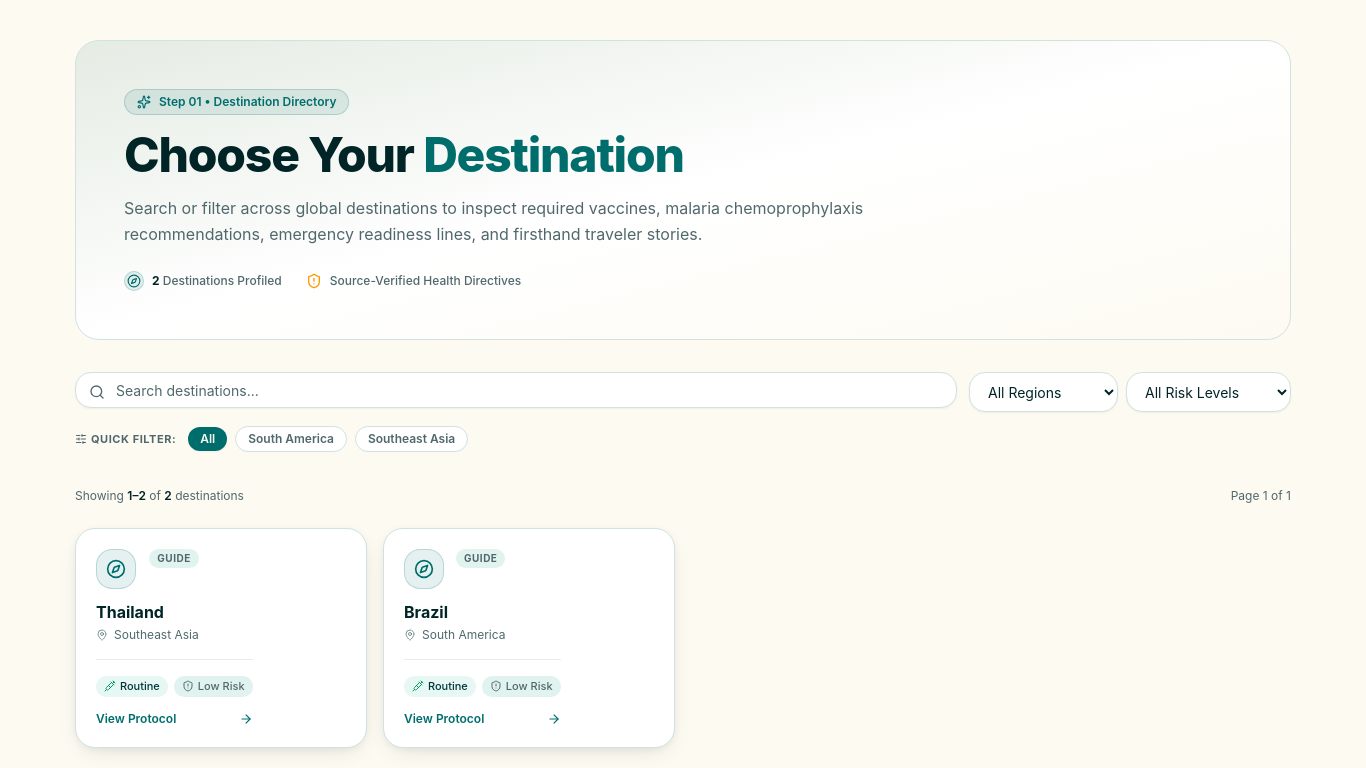
Test: DestinationsPage › shows an empty state when no destinations match the filters
This screenshot has width=1366, height=768.
Expected: the heading "Thailand" is shown, [96,602,164,622]
In the field with placeholder "Search destinations...": (516, 390) [75,372,957,408], type "zzzznomatch"
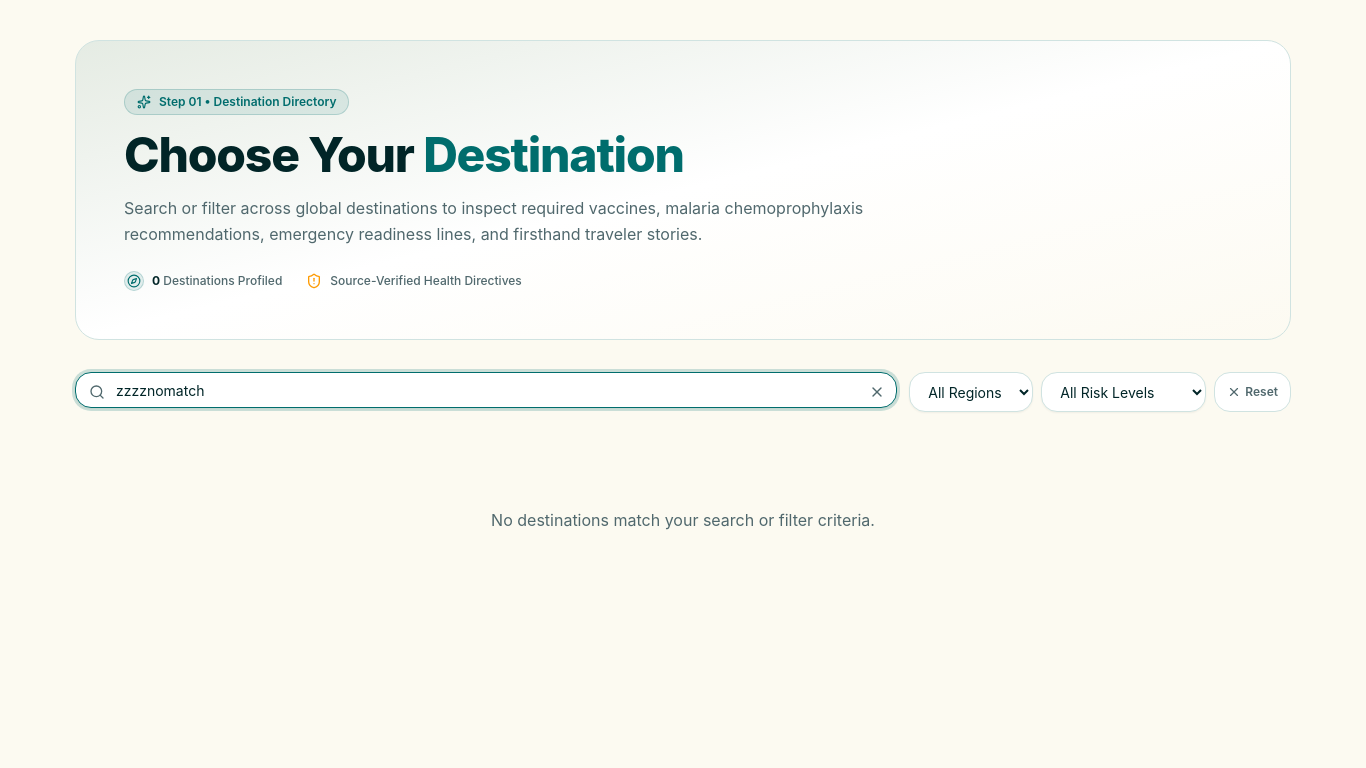
Now the text "No destinations match your search or filter criteria." is shown, box [491,510,875,530]
